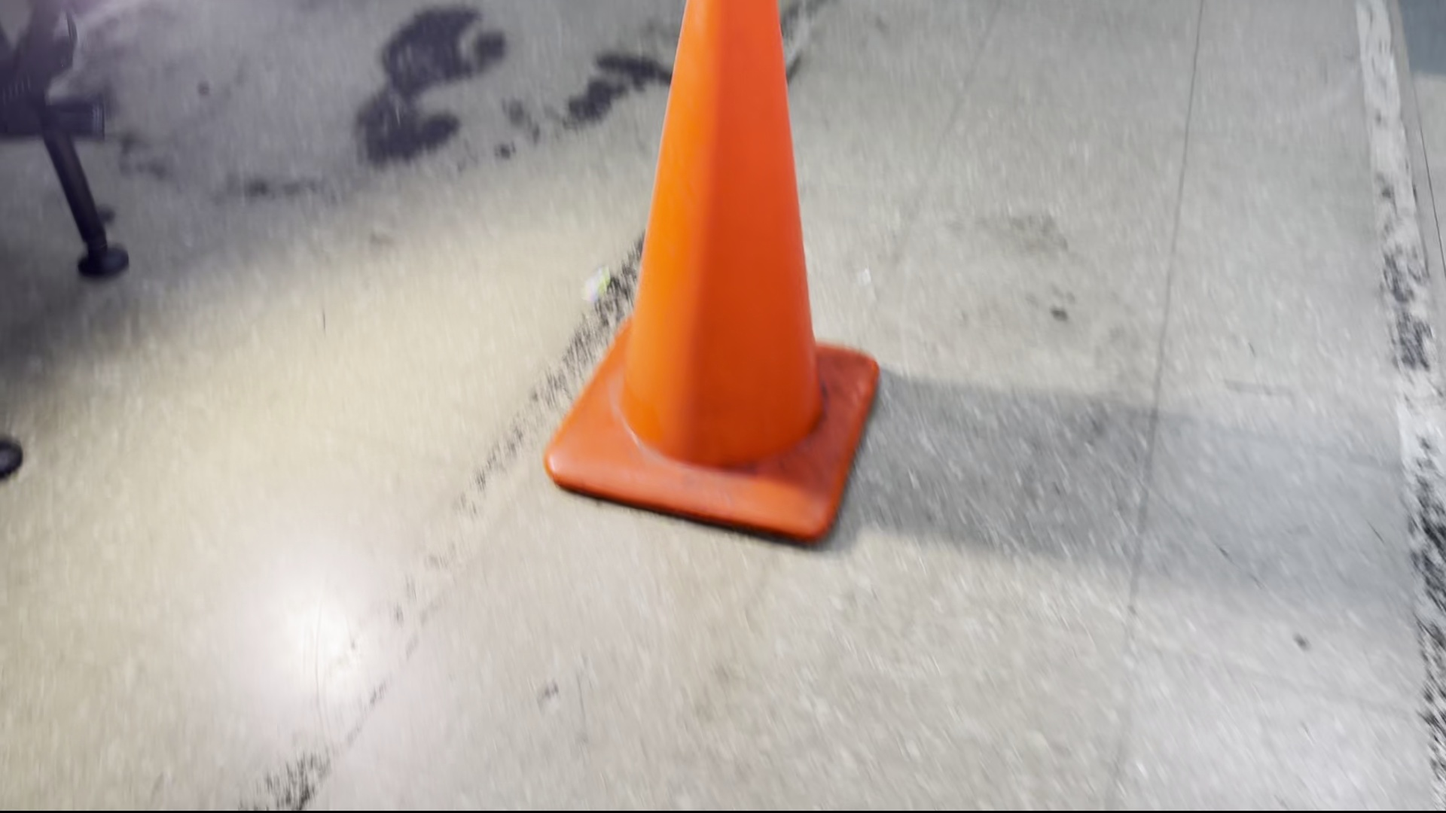traffic_cone: (542, 0, 881, 546)
